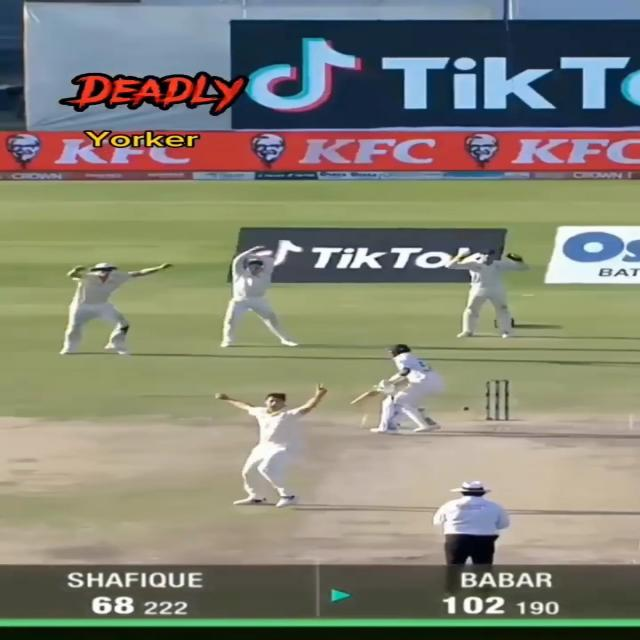stump: (484, 378, 512, 422)
